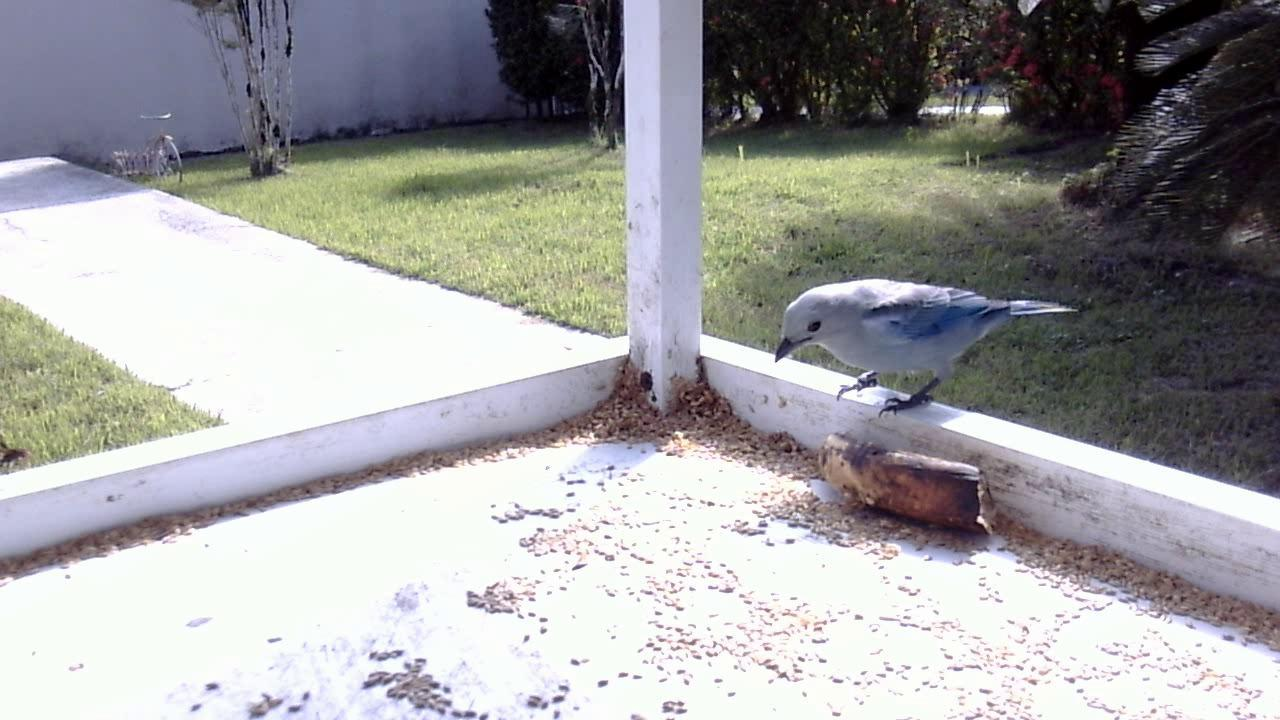sanhaco_da_amazonia: (775, 269, 1070, 423)
